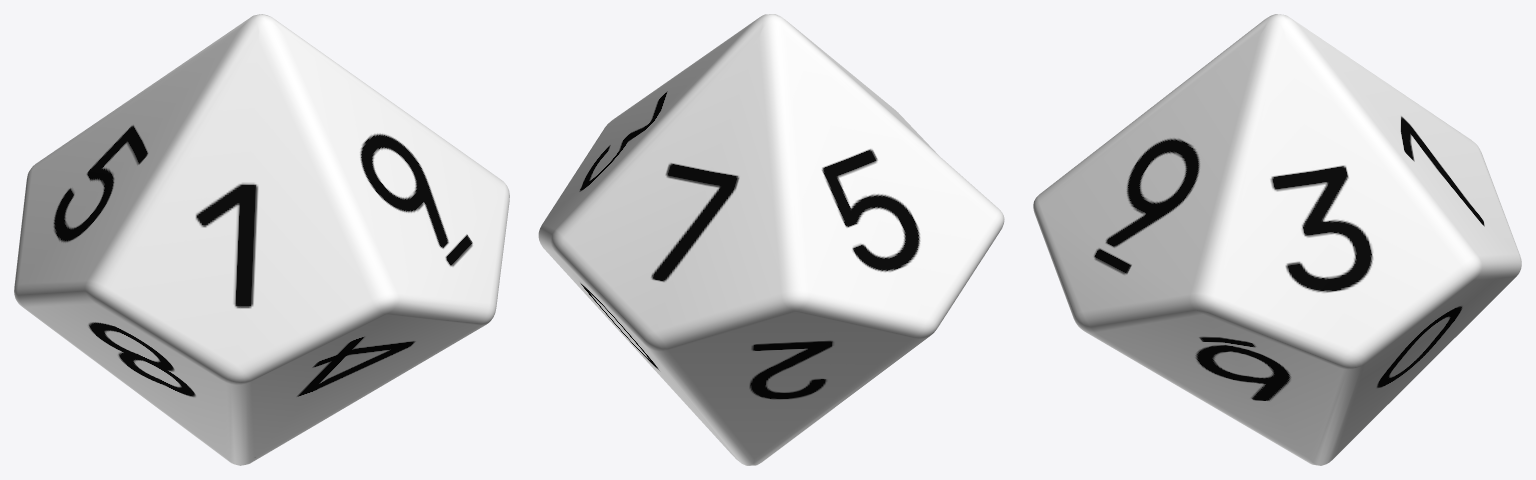
File: Dado10.FBX
3 renders of one model, left to right at view 1: azimuth 30°, elevation 25°; view 2: azimuth 150°, elevation 25°; view 3: azimuth 270°, elevation 25°, orthographic. The views are drawn at different scales.
Visible parts, largest first — view 1: Dado10; view 2: Dado10; view 3: Dado10.
Boxes of the visible parts, x1=… form: Dado10: x1=14, y1=14, x2=509, y2=465; Dado10: x1=538, y1=14, x2=1004, y2=465; Dado10: x1=1033, y1=14, x2=1521, y2=465.
Bounding box in the file's own units: 236 × 249 × 246.
